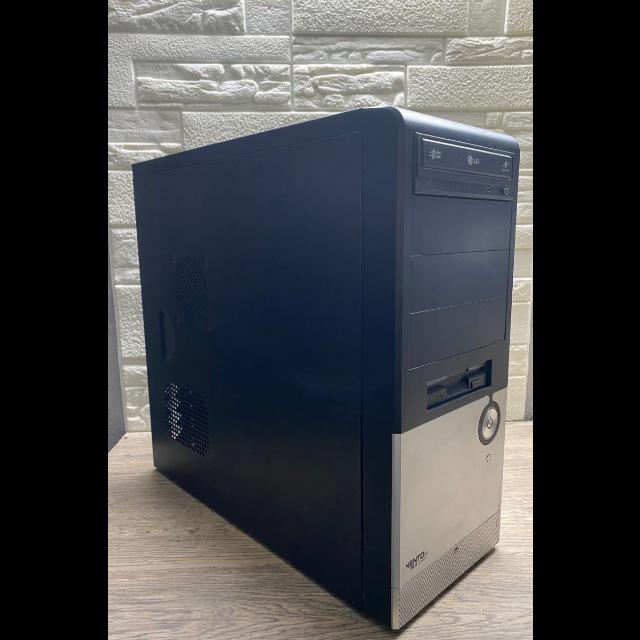Desktop-PC: (136, 110, 506, 614)
